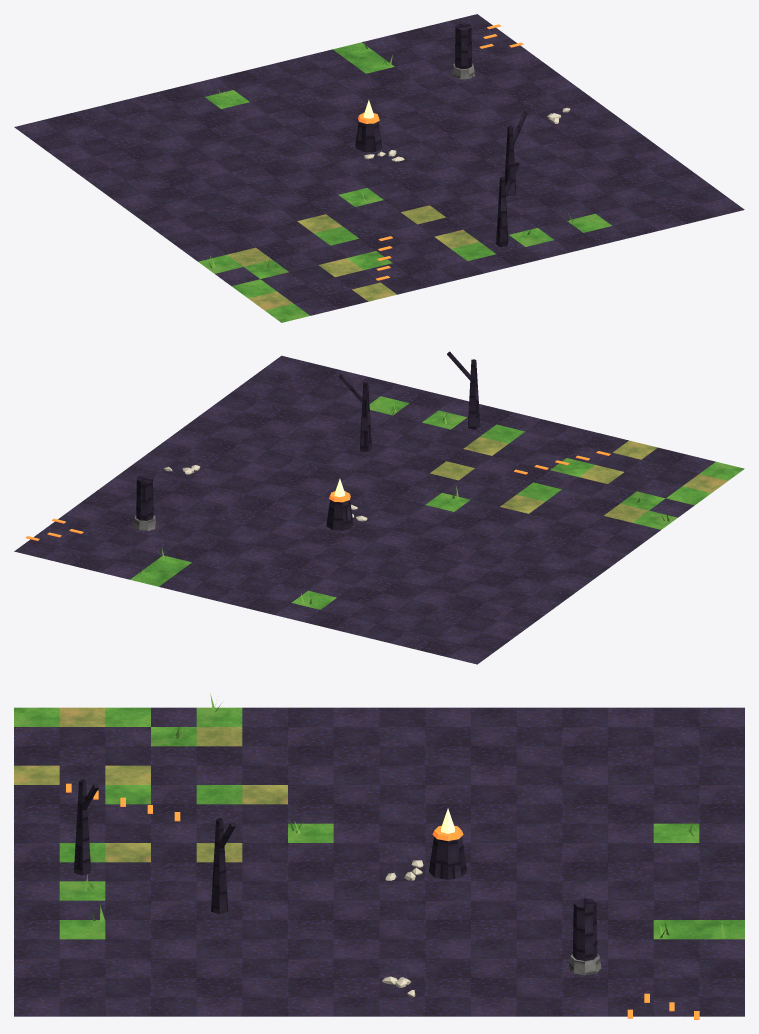
File: chunk_6_23.glb
The picture shows the model from 3 angles, top to bottom: view 1: azimuth 30°, elevation 25°; view 2: azimuth 150°, elevation 25°; view 3: azimuth 270°, elevation 25°; orthographic projection. The views are drawn at different scales.
Visible parts, largest first — view 1: chunk_6_23; view 2: chunk_6_23; view 3: chunk_6_23.
Part boxes in pixels (x1,y1,x2,y2): chunk_6_23: (14, 14, 744, 322); chunk_6_23: (14, 351, 744, 664); chunk_6_23: (14, 693, 744, 1019).
Size of the model in its own units: 16.22 by 2.59 by 16.
Materials: 10 (6 with a texture image).
